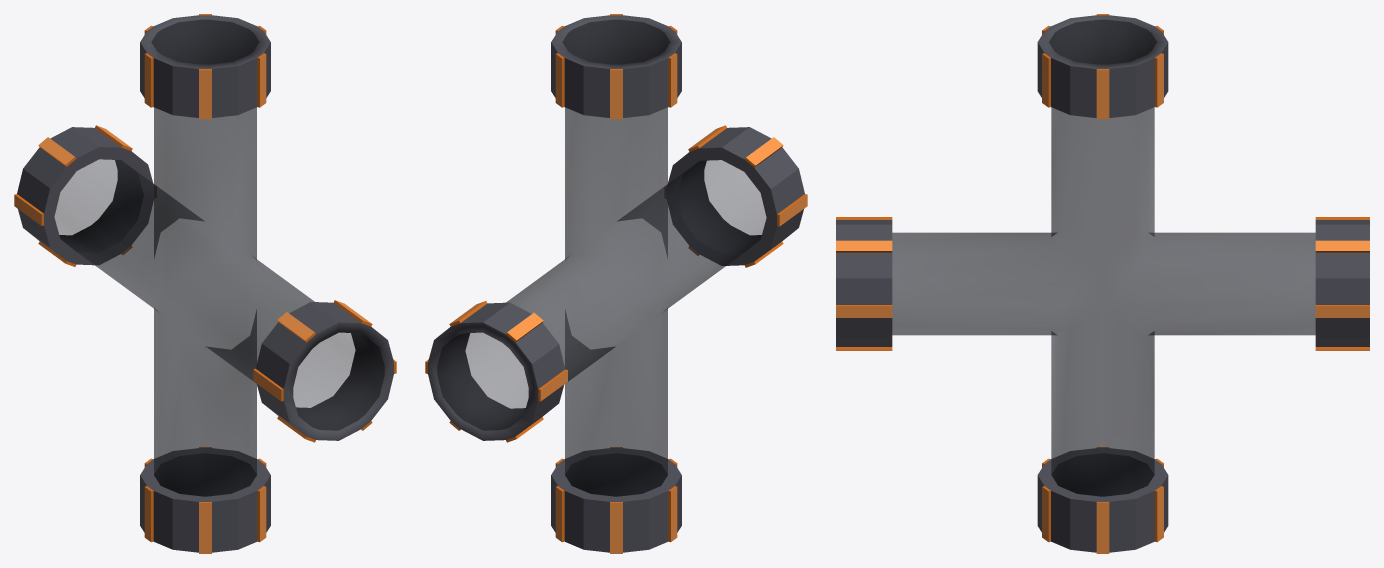
File: TubeCross.glb
3 views of the same model, side by side, from view 1: azimuth 30°, elevation 25°; view 2: azimuth 150°, elevation 25°; view 3: azimuth 270°, elevation 25° (orthographic).
Parts seen in each view (by area): view 1: Tube_Cross; view 2: Tube_Cross; view 3: Tube_Cross.
Boxes of the visible parts, left/top/right/bottom form: Tube_Cross: left=14, top=14, right=396, bottom=553; Tube_Cross: left=425, top=14, right=807, bottom=553; Tube_Cross: left=836, top=14, right=1369, bottom=553.
Size of the model in its own units: 0.2495 by 1 by 1.
Materials: 2 (2 with a texture image).
